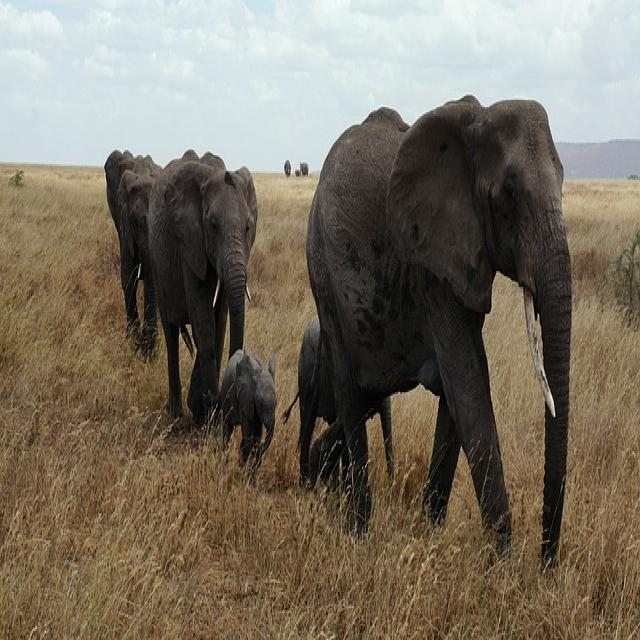elephant: (305, 96, 572, 570), (148, 150, 258, 426), (103, 152, 166, 357), (218, 349, 276, 471)
